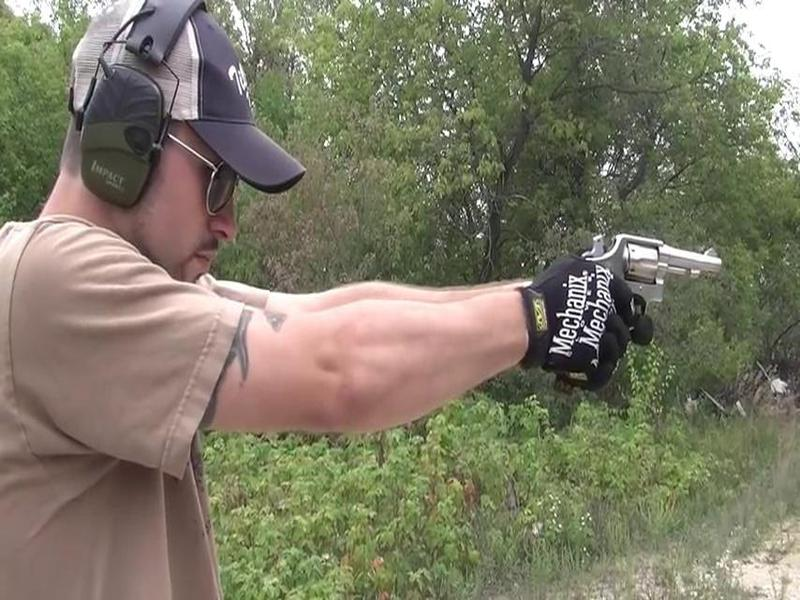Revolver: (573, 217, 732, 327)
